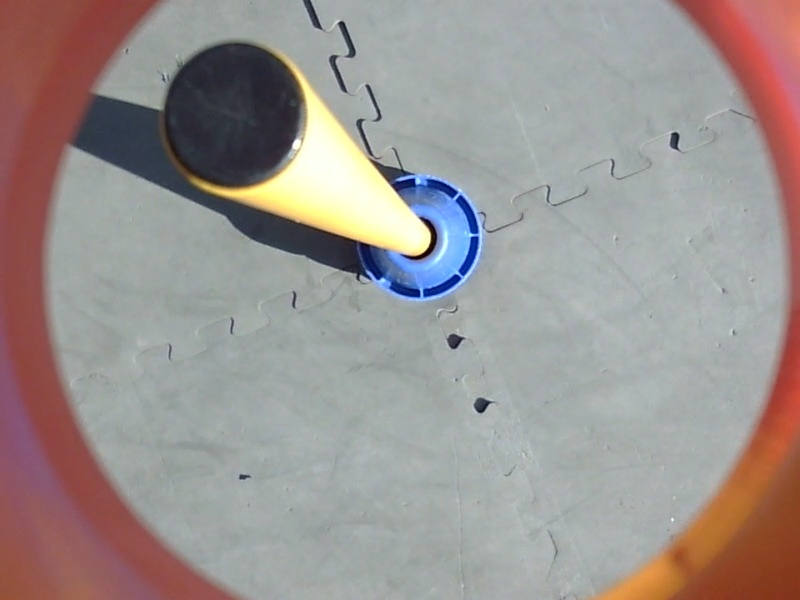tip: (147, 35, 320, 201)
